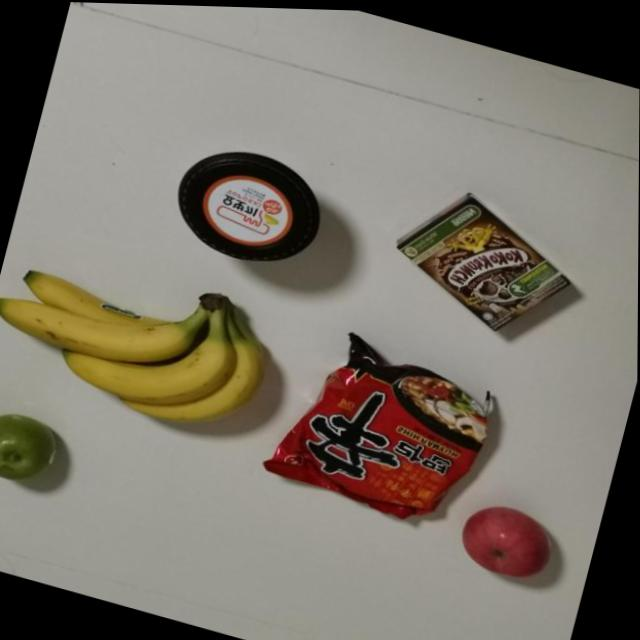Apple: (449, 488, 565, 589), (0, 395, 76, 495)
Banana: (0, 230, 285, 449)
Cerealbox: (382, 167, 608, 353)
